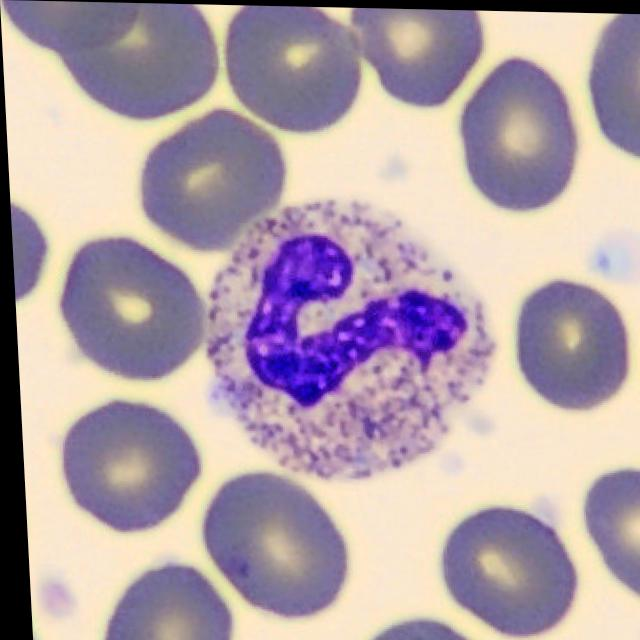Neutrofilo segmentado: (203, 195, 492, 481)
